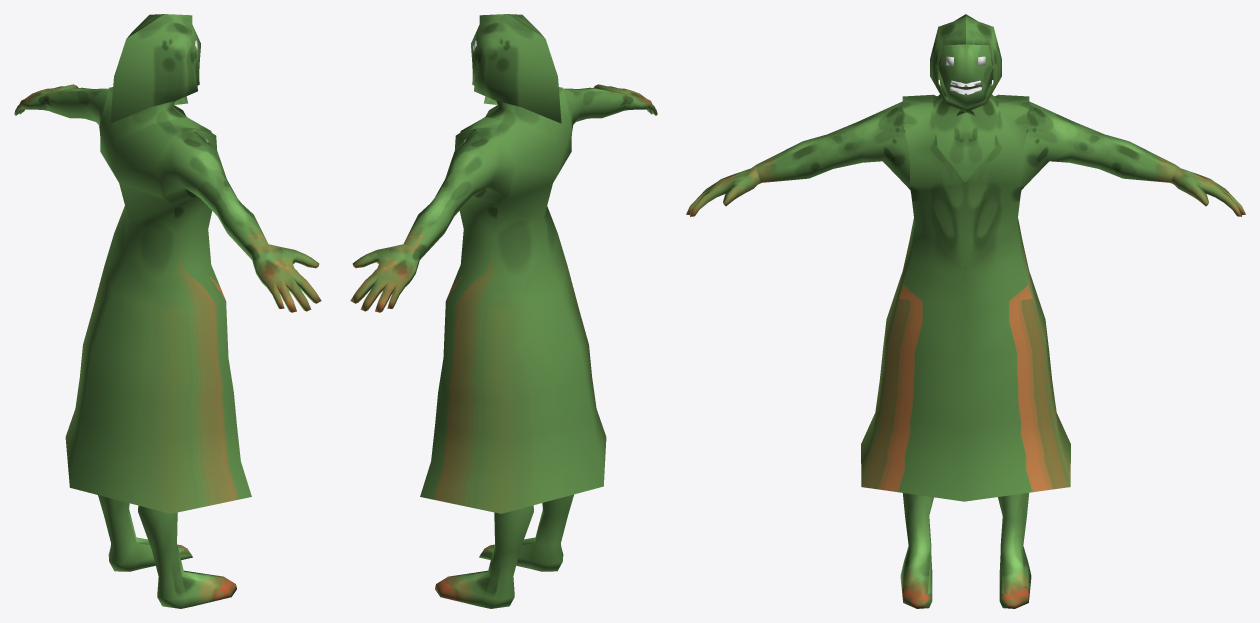
Rendered from zombie7.fbx.
3 views of the same model, side by side, from view 1: azimuth 30°, elevation 25°; view 2: azimuth 150°, elevation 25°; view 3: azimuth 270°, elevation 25° (orthographic).
Visible parts, largest first — view 1: body.001, body, body.002; view 2: body.001, body, body.002; view 3: body.001, body, body.002.
Part boxes in pixels (box(x1,y1,x2,y2)): body.001: box(65, 87, 251, 513); body: box(14, 25, 321, 608); body.002: box(110, 14, 197, 123); body.001: box(420, 87, 606, 513); body: box(350, 25, 657, 608); body.002: box(474, 14, 561, 123); body.001: box(861, 94, 1070, 501); body: box(686, 44, 1245, 608); body.002: box(930, 14, 1001, 115).
Size of the model in its own units: 56.1 by 187 by 167.
